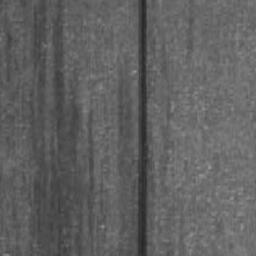Scratches: (138, 0, 150, 256)
